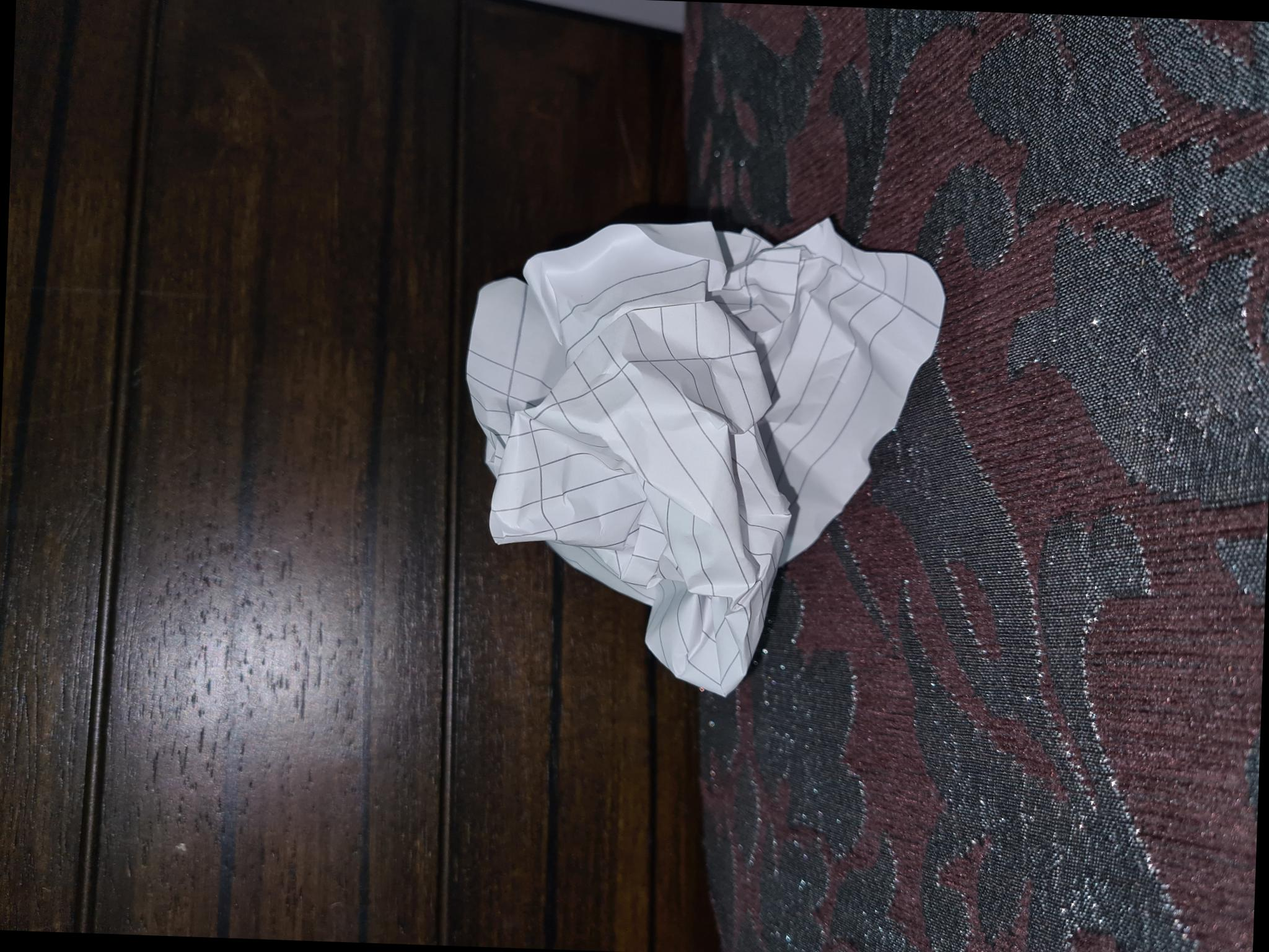Kertas: (234, 450, 727, 952)
